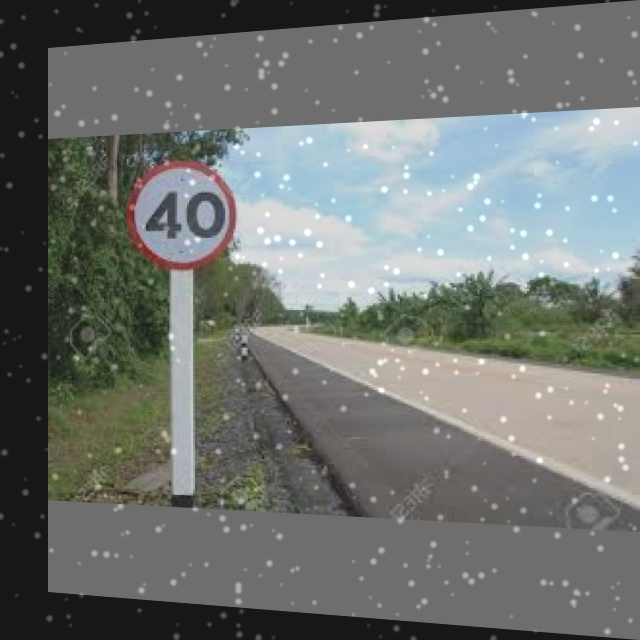Speed_Limit_40: (130, 152, 235, 269)
